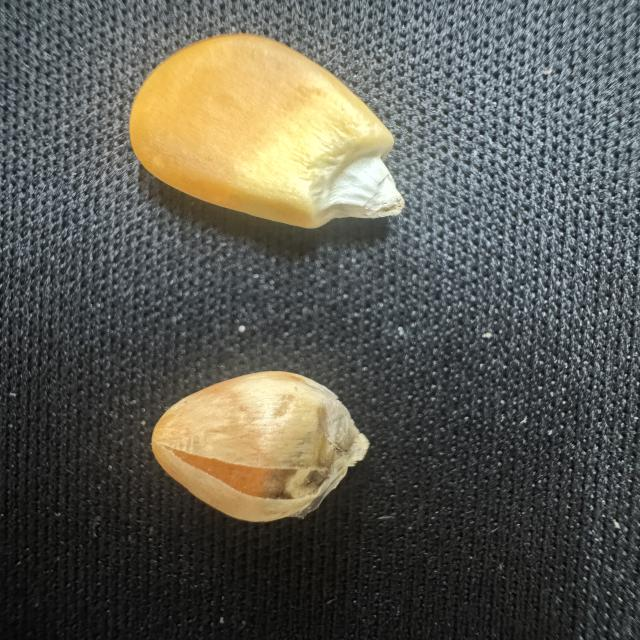Bad-Seed: (148, 362, 377, 531)
Good-Seed: (113, 31, 414, 238)
